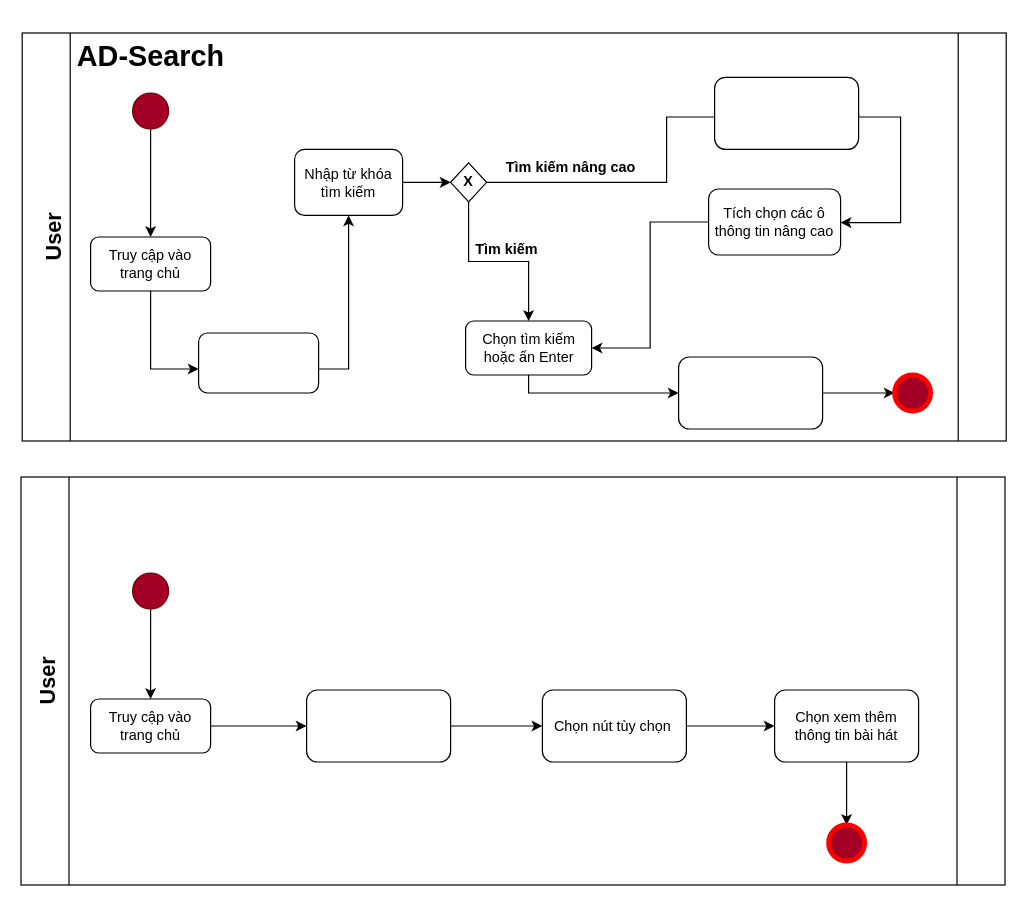
Some shapes in this 1027 by 906 pixel diagram are drawn without their labels. Here are the shapes that lost their labels. From the top down, the box of each, then its label:
(713, 76, 859, 149): Hiển thị bảng tìm kiếm nâng cao
(197, 332, 319, 393): Chọn biểu tượng tìm kiếm
(677, 356, 823, 429): Hệ thống hiển thị danh sách tìm kiếm
(305, 689, 451, 762): Chọn bài hát muốn xem thông tin chi tiết
